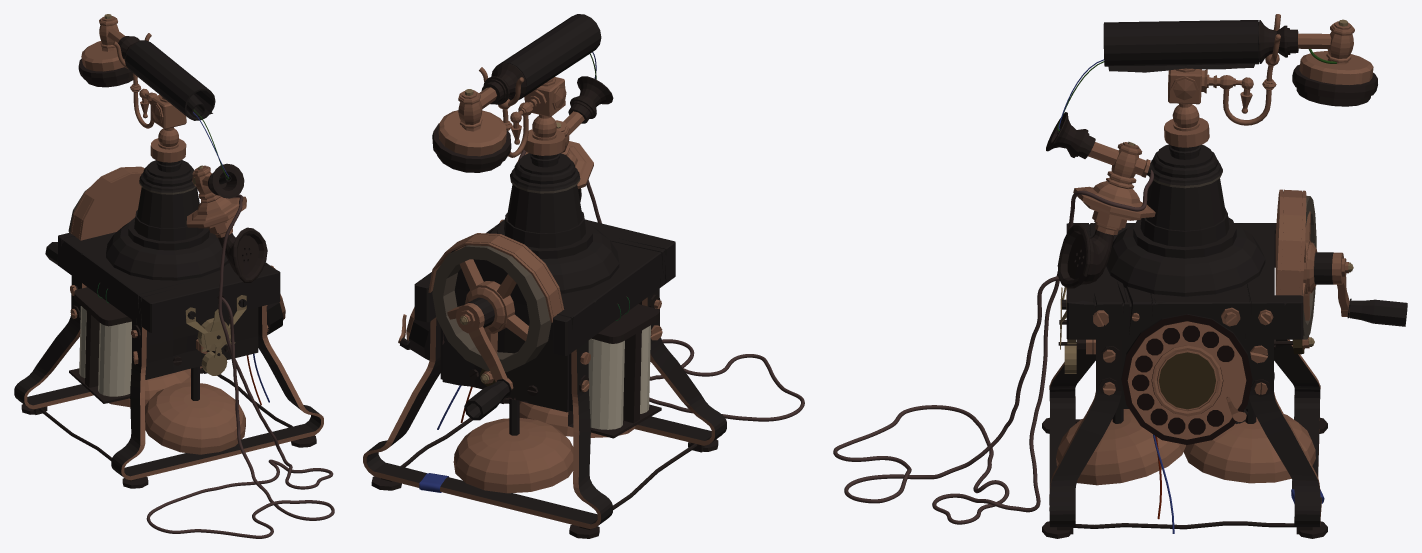
3 views of the same model, side by side, from view 1: azimuth 30°, elevation 25°; view 2: azimuth 150°, elevation 25°; view 3: azimuth 270°, elevation 25° (orthographic). The views are drawn at different scales.
Parts seen in each view (by area): view 1: Old_base, Plane.002, Cylinder.003, Cylinder, Cable.002, Cylinder.018, Base, Cylinder.053, Cylinder.017, Cylinder.055, Cylinder.001, Cylinder.016 (+17 smaller); view 2: Plane.002, Old_base, Cylinder.026, Cylinder.038, Cylinder, Side_l, Cylinder.053, Cylinder.018, Cylinder.023, Cylinder.001, Cylinder.002, Cylinder.015 (+20 smaller); view 3: Plane.002, Old_base, Cylinder, Cylinder.053, Cable.002, Cylinder.022, Cylinder.026, Cylinder.003, Cylinder.072, Cylinder.073, Cylinder.055, Cylinder.001 (+14 smaller).
Boxes of the visible parts, box(x1,y1,x2,y2) form: Old_base: box(58, 232, 280, 332); Plane.002: box(14, 276, 323, 480); Cylinder.003: box(145, 382, 245, 454); Cylinder: box(106, 210, 229, 280); Cable.002: box(146, 194, 334, 538); Cylinder.018: box(70, 166, 144, 240); Base: box(145, 307, 258, 379); Cylinder.053: box(125, 40, 215, 120); Cylinder.017: box(98, 321, 131, 396); Cylinder.055: box(186, 165, 246, 237); Cylinder.001: box(137, 187, 199, 228); Cylinder.016: box(218, 227, 267, 282); Plane.002: box(363, 288, 726, 529); Old_base: box(414, 219, 675, 355); Cylinder.026: box(453, 418, 573, 493); Cylinder.038: box(432, 245, 551, 372); Cylinder: box(487, 211, 619, 293); Side_l: box(442, 329, 569, 412); Cylinder.053: box(498, 14, 601, 97); Cylinder.018: box(428, 233, 564, 322); Cylinder.023: box(588, 338, 624, 429); Cylinder.001: box(507, 184, 582, 233); Cylinder.002: box(510, 153, 580, 193); Cylinder.015: box(438, 110, 506, 156); Plane.002: box(1049, 339, 1321, 527); Old_base: box(1066, 223, 1303, 339); Cylinder: box(1106, 208, 1265, 296); Cylinder.053: box(1103, 20, 1259, 66); Cable.002: box(833, 169, 1153, 524); Cylinder.022: box(1121, 314, 1252, 444); Cylinder.026: box(1183, 414, 1315, 483); Cylinder.003: box(1056, 409, 1185, 485); Cylinder.072: box(1127, 321, 1246, 439); Cylinder.073: box(1152, 345, 1222, 416); Cylinder.055: box(1073, 142, 1155, 235); Cylinder.001: box(1146, 178, 1225, 230).
Bounding box in the file's own units: 2.85 × 4.5 × 5.1.
